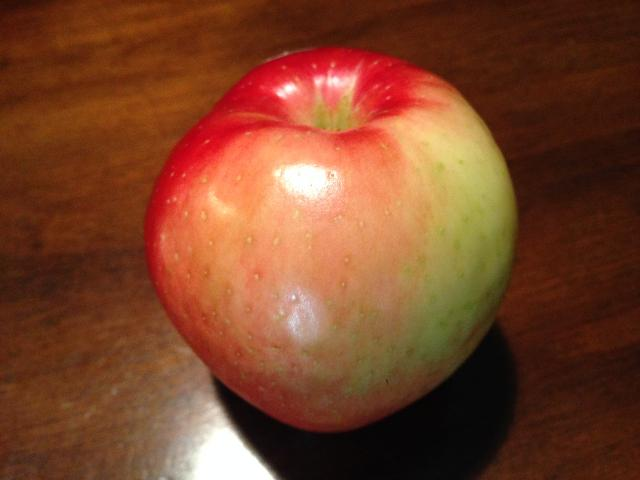Apples: (145, 43, 515, 428)
